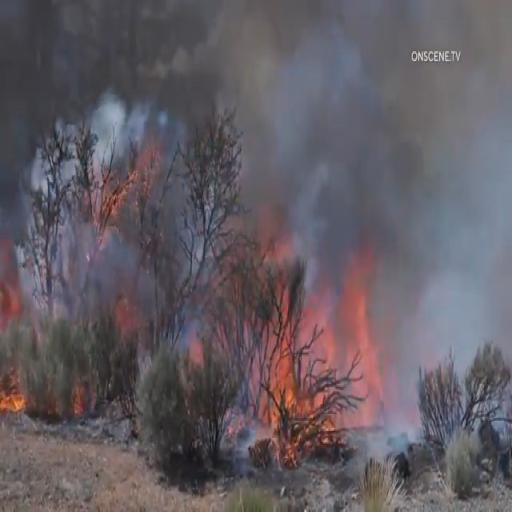fire: (211, 219, 378, 435), (60, 164, 145, 266), (0, 366, 34, 414)
smoke: (0, 0, 363, 116), (252, 56, 412, 195)
